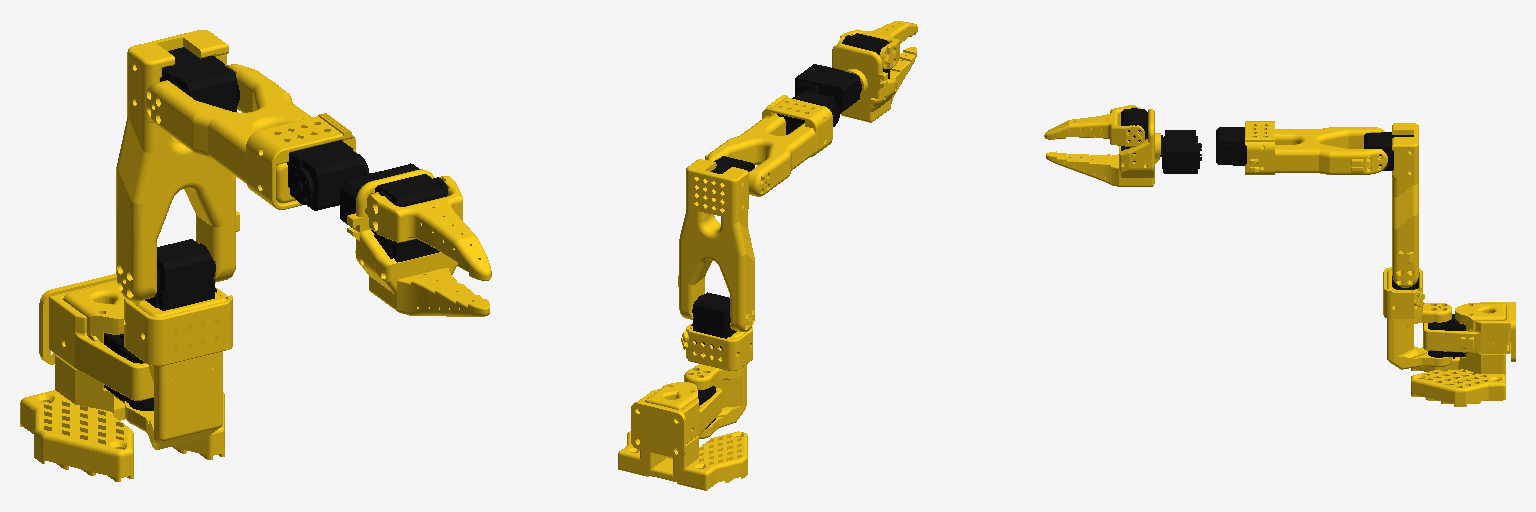
robot.urdf — so101_new_calib:
<?xml version="1.0" ?>
<robot name="so101_new_calib">
  <!--Generated by RobotCAD, a ROS Workbench for FreeCAD (https://github.com/drfenixion/freecad.robotcad)-->
  <link name="base">
    <visual>
      <!--visual_base_/base_visual.-->
      <origin rpy="1.5708000000000009 0 0" xyz="0.0206915 0.0221255 0.0300817"/>
      <geometry>
        <mesh filename="package://SO-101/meshes/base_motor_holder_so101_v1_stl.dae"/>
      </geometry>
    </visual>
    <visual>
      <!--visual_base_/base_visual001.-->
      <origin rpy="1.5708000000000009 0 0" xyz="0.0207909 0.0221255 0.0300817"/>
      <geometry>
        <mesh filename="package://SO-101/meshes/base_so101_v2_stl.dae"/>
      </geometry>
    </visual>
    <visual>
      <!--visual_base_/base_visual002.-->
      <origin rpy="0 0 -1.5708000000000004" xyz="0.0207909 -0.0105745 0.0761817"/>
      <geometry>
        <mesh filename="package://SO-101/meshes/sts3215_03a_v1_stl.dae"/>
      </geometry>
    </visual>
    <visual>
      <!--visual_base_/base_visual003.-->
      <origin rpy="1.5708000000000009 0 0" xyz="0.0205915 0.0467435 0.0798817"/>
      <geometry>
        <mesh filename="package://SO-101/meshes/waveshare_mounting_plate_so101_v2_stl.dae"/>
      </geometry>
    </visual>
    <collision>
      <!--col_base_/base_collision.-->
      <origin rpy="1.5708000000000009 0 0" xyz="0.0206915 0.0221255 0.0300817"/>
      <geometry>
        <mesh filename="package://SO-101/meshes/base_motor_holder_so101_v1_stl.dae"/>
      </geometry>
    </collision>
    <collision>
      <!--col_base_/base_collision001.-->
      <origin rpy="1.5708000000000009 0 0" xyz="0.0207909 0.0221255 0.0300817"/>
      <geometry>
        <mesh filename="package://SO-101/meshes/base_so101_v2_stl.dae"/>
      </geometry>
    </collision>
    <collision>
      <!--col_base_/base_collision002.-->
      <origin rpy="0 0 -1.5708000000000004" xyz="0.0207909 -0.0105745 0.0761817"/>
      <geometry>
        <mesh filename="package://SO-101/meshes/sts3215_03a_v1_stl.dae"/>
      </geometry>
    </collision>
    <collision>
      <!--col_base_/base_collision003.-->
      <origin rpy="1.5708000000000009 0 0" xyz="0.0205915 0.0467435 0.0798817"/>
      <geometry>
        <mesh filename="package://SO-101/meshes/waveshare_mounting_plate_so101_v2_stl.dae"/>
      </geometry>
    </collision>
    <inertial>
      <mass value="0.147"/>
      <origin rpy="0 0 0" xyz="0.020739 0.00204287 0.065966"/>
      <inertia ixx="0.000136117" ixy="4.59787e-07" ixz="9.75275e-08" iyy="0.000114686" iyz="-4.97151e-06" izz="0.000130364"/>
    </inertial>
  </link>
  <link name="shoulder">
    <visual>
      <!--visual_shoulder_/shoulder_visual.-->
      <origin rpy="-1.5707926536217434 1.570792653589793 3.1415926535595684" xyz="-0.0303992 0.000422241 -0.0417"/>
      <geometry>
        <mesh filename="package://SO-101/meshes/sts3215_03a_v1_stl.dae"/>
      </geometry>
    </visual>
    <visual>
      <!--visual_shoulder_/shoulder_visual001.-->
      <origin rpy="-1.5707926535915184 -1.570792653589793 -3.1415926535746808" xyz="-0.0675992 -0.000177759 0.0158499"/>
      <geometry>
        <mesh filename="package://SO-101/meshes/motor_holder_so101_base_v1_stl.dae"/>
      </geometry>
    </visual>
    <visual>
      <!--visual_shoulder_/shoulder_visual002.-->
      <origin rpy="-1.5708000000000004 0 0" xyz="0.0122008 2.22413e-05 0.0464"/>
      <geometry>
        <mesh filename="package://SO-101/meshes/rotation_pitch_so101_v1_stl.dae"/>
      </geometry>
    </visual>
    <collision>
      <!--col_shoulder_/shoulder_collision.-->
      <origin rpy="-1.5707926536217434 1.570792653589793 3.1415926535595684" xyz="-0.0303992 0.000422241 -0.0417"/>
      <geometry>
        <mesh filename="package://SO-101/meshes/sts3215_03a_v1_stl.dae"/>
      </geometry>
    </collision>
    <collision>
      <!--col_shoulder_/shoulder_collision001.-->
      <origin rpy="-1.5707926535915184 -1.570792653589793 -3.1415926535746808" xyz="-0.0675992 -0.000177759 0.0158499"/>
      <geometry>
        <mesh filename="package://SO-101/meshes/motor_holder_so101_base_v1_stl.dae"/>
      </geometry>
    </collision>
    <collision>
      <!--col_shoulder_/shoulder_collision002.-->
      <origin rpy="-1.5708000000000004 0 0" xyz="0.0122008 2.22413e-05 0.0464"/>
      <geometry>
        <mesh filename="package://SO-101/meshes/rotation_pitch_so101_v1_stl.dae"/>
      </geometry>
    </collision>
    <inertial>
      <mass value="0.100006"/>
      <origin rpy="0 0 0" xyz="-0.0307604 -1.66727e-05 -0.0252713"/>
      <inertia ixx="8.3759e-05" ixy="7.55525e-08" ixz="-1.16342e-06" iyy="8.10403e-05" iyz="1.54663e-07" izz="2.39783e-05"/>
    </inertial>
  </link>
  <link name="upper_arm">
    <visual>
      <!--visual_upper_arm_/upper_arm_visual.-->
      <origin rpy="-3.1415900000000008 0 -1.5708000000000004" xyz="-0.11257 -0.0155 0.0187"/>
      <geometry>
        <mesh filename="package://SO-101/meshes/sts3215_03a_v1_stl.dae"/>
      </geometry>
    </visual>
    <visual>
      <!--visual_upper_arm_/upper_arm_visual001.-->
      <origin rpy="3.14159 0 0" xyz="-0.065085 0.012 0.0182"/>
      <geometry>
        <mesh filename="package://SO-101/meshes/upper_arm_so101_v1_stl.dae"/>
      </geometry>
    </visual>
    <collision>
      <!--col_upper_arm_/upper_arm_collision.-->
      <origin rpy="-3.1415900000000008 0 -1.5708000000000004" xyz="-0.11257 -0.0155 0.0187"/>
      <geometry>
        <mesh filename="package://SO-101/meshes/sts3215_03a_v1_stl.dae"/>
      </geometry>
    </collision>
    <collision>
      <!--col_upper_arm_/upper_arm_collision001.-->
      <origin rpy="3.14159 0 0" xyz="-0.065085 0.012 0.0182"/>
      <geometry>
        <mesh filename="package://SO-101/meshes/upper_arm_so101_v1_stl.dae"/>
      </geometry>
    </collision>
    <inertial>
      <mass value="0.103"/>
      <origin rpy="0 0 0" xyz="-0.0898471 -0.00838224 0.0184089"/>
      <inertia ixx="4.08002e-05" ixy="-1.97819e-05" ixz="-4.03016e-08" iyy="0.000147318" iyz="8.97326e-09" izz="0.000142487"/>
    </inertial>
  </link>
  <link name="lower_arm">
    <visual>
      <!--visual_lower_arm_/lower_arm_visual.-->
      <origin rpy="-3.1415900000000008 0 0" xyz="-0.0648499 -0.032 0.0182"/>
      <geometry>
        <mesh filename="package://SO-101/meshes/under_arm_so101_v1_stl.dae"/>
      </geometry>
    </visual>
    <visual>
      <!--visual_lower_arm_/lower_arm_visual001.-->
      <origin rpy="-3.1415900000000008 0 0" xyz="-0.0648499 -0.032 0.018"/>
      <geometry>
        <mesh filename="package://SO-101/meshes/motor_holder_so101_wrist_v1_stl.dae"/>
      </geometry>
    </visual>
    <visual>
      <!--visual_lower_arm_/lower_arm_visual002.-->
      <origin rpy="-3.1415900000000008 0 -3.1415900000000008" xyz="-0.1224 0.0052 0.0187"/>
      <geometry>
        <mesh filename="package://SO-101/meshes/sts3215_03a_v1_stl.dae"/>
      </geometry>
    </visual>
    <collision>
      <!--col_lower_arm_/lower_arm_collision.-->
      <origin rpy="-3.1415900000000008 0 0" xyz="-0.0648499 -0.032 0.0182"/>
      <geometry>
        <mesh filename="package://SO-101/meshes/under_arm_so101_v1_stl.dae"/>
      </geometry>
    </collision>
    <collision>
      <!--col_lower_arm_/lower_arm_collision001.-->
      <origin rpy="-3.1415900000000008 0 0" xyz="-0.0648499 -0.032 0.018"/>
      <geometry>
        <mesh filename="package://SO-101/meshes/motor_holder_so101_wrist_v1_stl.dae"/>
      </geometry>
    </collision>
    <collision>
      <!--col_lower_arm_/lower_arm_collision002.-->
      <origin rpy="-3.1415900000000008 0 -3.1415900000000008" xyz="-0.1224 0.0052 0.0187"/>
      <geometry>
        <mesh filename="package://SO-101/meshes/sts3215_03a_v1_stl.dae"/>
      </geometry>
    </collision>
    <inertial>
      <mass value="0.104"/>
      <origin rpy="0 0 0" xyz="-0.0980701 0.00324376 0.0182831"/>
      <inertia ixx="2.87438e-05" ixy="7.41152e-06" ixz="1.26409e-06" iyy="0.000159844" iyz="-4.90188e-08" izz="0.00014529"/>
    </inertial>
  </link>
  <link name="wrist">
    <visual>
      <!--visual_wrist_/wrist_visual.-->
      <origin rpy="-1.5707926536217434 1.570792653589793 3.1415926535595684" xyz="0.0 -0.0424 0.0306"/>
      <geometry>
        <mesh filename="package://SO-101/meshes/sts3215_03a_no_horn_v1_stl.dae"/>
      </geometry>
    </visual>
    <visual>
      <!--visual_wrist_/wrist_visual001.-->
      <origin rpy="1.5707926536217438 -1.5707926535897925 3.1415926535595684" xyz="0.0 -0.028 0.0181"/>
      <geometry>
        <mesh filename="package://SO-101/meshes/wrist_roll_pitch_so101_v2_stl.dae"/>
      </geometry>
    </visual>
    <collision>
      <!--col_wrist_/wrist_collision.-->
      <origin rpy="-1.5707926536217434 1.570792653589793 3.1415926535595684" xyz="0.0 -0.0424 0.0306"/>
      <geometry>
        <mesh filename="package://SO-101/meshes/sts3215_03a_no_horn_v1_stl.dae"/>
      </geometry>
    </collision>
    <collision>
      <!--col_wrist_/wrist_collision001.-->
      <origin rpy="1.5707926536217438 -1.5707926535897925 3.1415926535595684" xyz="0.0 -0.028 0.0181"/>
      <geometry>
        <mesh filename="package://SO-101/meshes/wrist_roll_pitch_so101_v2_stl.dae"/>
      </geometry>
    </collision>
    <inertial>
      <mass value="0.079"/>
      <origin rpy="0 0 0" xyz="-0.000103312 -0.0386143 0.0281156"/>
      <inertia ixx="3.68263e-05" ixy="1.7893e-08" ixz="-5.28128e-08" iyy="2.5391e-05" iyz="3.6412e-06" izz="2.1e-05"/>
    </inertial>
  </link>
  <link name="gripper">
    <visual>
      <!--visual_gripper_/gripper_visual.-->
      <origin rpy="-1.5708000000000004 0 0" xyz="0.0077 0.0001 -0.0234"/>
      <geometry>
        <mesh filename="package://SO-101/meshes/sts3215_03a_v1_stl.dae"/>
      </geometry>
    </visual>
    <visual>
      <!--visual_gripper_/gripper_visual001.-->
      <origin rpy="-3.1415900000000008 0 0" xyz="0.0 -0.000218214 0.000949706"/>
      <geometry>
        <mesh filename="package://SO-101/meshes/wrist_roll_follower_so101_v1_stl.dae"/>
      </geometry>
    </visual>
    <collision>
      <!--col_gripper_/gripper_collision.-->
      <origin rpy="-1.5708000000000004 0 0" xyz="0.0077 0.0001 -0.0234"/>
      <geometry>
        <mesh filename="package://SO-101/meshes/sts3215_03a_v1_stl.dae"/>
      </geometry>
    </collision>
    <collision>
      <!--col_gripper_/gripper_collision001.-->
      <origin rpy="-3.1415900000000008 0 0" xyz="0.0 -0.000218214 0.000949706"/>
      <geometry>
        <mesh filename="package://SO-101/meshes/wrist_roll_follower_so101_v1_stl.dae"/>
      </geometry>
    </collision>
    <inertial>
      <mass value="0.087"/>
      <origin rpy="0 0 0" xyz="0.000213627 0.000245138 -0.025187"/>
      <inertia ixx="2.75087e-05" ixy="-3.35241e-07" ixz="-5.7352e-06" iyy="4.33657e-05" iyz="-5.17847e-08" izz="3.45059e-05"/>
    </inertial>
  </link>
  <link name="jaw">
    <visual>
      <!--visual_jaw_/jaw_visual.-->
      <origin rpy="0 0 0" xyz="0.0 0.0 0.0189"/>
      <geometry>
        <mesh filename="package://SO-101/meshes/moving_jaw_so101_v1_stl.dae"/>
      </geometry>
    </visual>
    <collision>
      <!--col_jaw_/jaw_collision.-->
      <origin rpy="0 0 0" xyz="0.0 0.0 0.0189"/>
      <geometry>
        <mesh filename="package://SO-101/meshes/moving_jaw_so101_v1_stl.dae"/>
      </geometry>
    </collision>
    <inertial>
      <mass value="0.012"/>
      <origin rpy="0 0 0" xyz="-0.00157495 -0.0300244 0.0192755"/>
      <inertia ixx="6.61427e-06" ixy="-3.19807e-07" ixz="-5.90717e-09" iyy="1.89032e-06" iyz="-1.09945e-07" izz="5.28738e-06"/>
    </inertial>
  </link>
  <joint name="_6" type="revolute">
    <parent link="gripper"/>
    <child link="jaw"/>
    <origin rpy="1.5708000000000002 0 0" xyz="0.0202 0.0188 -0.0234"/>
    <axis xyz="0 0 1"/>
    <limit effort="10.0" lower="-0.174533" upper="1.74533" velocity="10.0"/>
  </joint>
  <joint name="_5" type="revolute">
    <parent link="wrist"/>
    <child link="gripper"/>
    <origin rpy="1.5708 -9.38083000397026e-08 3.14159" xyz="0.0 -0.0611 0.0181"/>
    <axis xyz="0 0 1"/>
    <limit effort="10.0" lower="-2.79253" upper="2.79253" velocity="10.0"/>
  </joint>
  <joint name="_4" type="revolute">
    <parent link="lower_arm"/>
    <child link="wrist"/>
    <origin rpy="0 0 -1.5708000000000004" xyz="-0.1349 0.0052 0.0"/>
    <axis xyz="0 0 1"/>
    <limit effort="10.0" lower="-1.6580600000000003" upper="1.6580600000000003" velocity="10.0"/>
  </joint>
  <joint name="_3" type="revolute">
    <parent link="upper_arm"/>
    <child link="lower_arm"/>
    <origin rpy="0 0 1.5708000000000002" xyz="-0.11257 -0.028 0.0"/>
    <axis xyz="0 0 1"/>
    <limit effort="10.0" lower="-1.74533" upper="1.5708" velocity="10.0"/>
  </joint>
  <joint name="_2" type="revolute">
    <parent link="shoulder"/>
    <child link="upper_arm"/>
    <origin rpy="1.5707926536217434 -1.5707926535897925 3.141592653589793" xyz="-0.0303992 -0.0182778 -0.0542"/>
    <axis xyz="0 0 1"/>
    <limit effort="10.0" lower="-1.74533" upper="1.74533" velocity="10.0"/>
  </joint>
  <joint name="_1" type="revolute">
    <parent link="base"/>
    <child link="shoulder"/>
    <origin rpy="-3.1415900000000008 0 1.5708000000000002" xyz="0.0207909 -0.0230745 0.0948817"/>
    <axis xyz="0 0 1"/>
    <limit effort="10.0" lower="-1.91986" upper="1.91986" velocity="10.0"/>
  </joint>
</robot>

--- What the picture shows (computed from the rendered views, not written in the file) ---
3 views of the same robot in one strip: view 1: azimuth 30°, elevation 25°; view 2: azimuth 150°, elevation 25°; view 3: azimuth 270°, elevation 25° (orthographic).
Robot: so101_new_calib — 7 links, 6 joints (6 revolute); root link base; default pose: every joint at zero.
Visible links, largest first — view 1: upper_arm, base, lower_arm, shoulder, gripper, jaw, wrist; view 2: upper_arm, base, lower_arm, shoulder, gripper, wrist, jaw; view 3: base, lower_arm, upper_arm, shoulder, gripper, jaw, wrist.
Link boxes in pixels (x1=…): upper_arm: x1=116, y1=30, x2=239, y2=301; base: x1=20, y1=274, x2=224, y2=481; lower_arm: x1=145, y1=64, x2=368, y2=210; shoulder: x1=124, y1=239, x2=232, y2=449; gripper: x1=347, y1=169, x2=489, y2=316; jaw: x1=365, y1=176, x2=491, y2=280; wrist: x1=340, y1=163, x2=419, y2=228; upper_arm: x1=678, y1=156, x2=754, y2=331; base: x1=618, y1=382, x2=747, y2=490; lower_arm: x1=705, y1=91, x2=839, y2=196; shoulder: x1=681, y1=292, x2=752, y2=438; gripper: x1=832, y1=33, x2=916, y2=122; wrist: x1=795, y1=64, x2=861, y2=113; jaw: x1=838, y1=21, x2=917, y2=68; base: x1=1411, y1=302, x2=1515, y2=406; lower_arm: x1=1216, y1=121, x2=1387, y2=174; upper_arm: x1=1364, y1=123, x2=1418, y2=287; shoulder: x1=1383, y1=267, x2=1451, y2=369; gripper: x1=1046, y1=108, x2=1160, y2=186; jaw: x1=1044, y1=105, x2=1144, y2=146; wrist: x1=1160, y1=130, x2=1201, y2=173.
Bounding box of the posed robot: 0.1109 × 0.4296 × 0.2672 m (x, y, z).
16 mesh visuals loaded from 13 distinct referenced files (12 Collada DAE); not drawn: 1 (reference not matched to a file when rendering).
